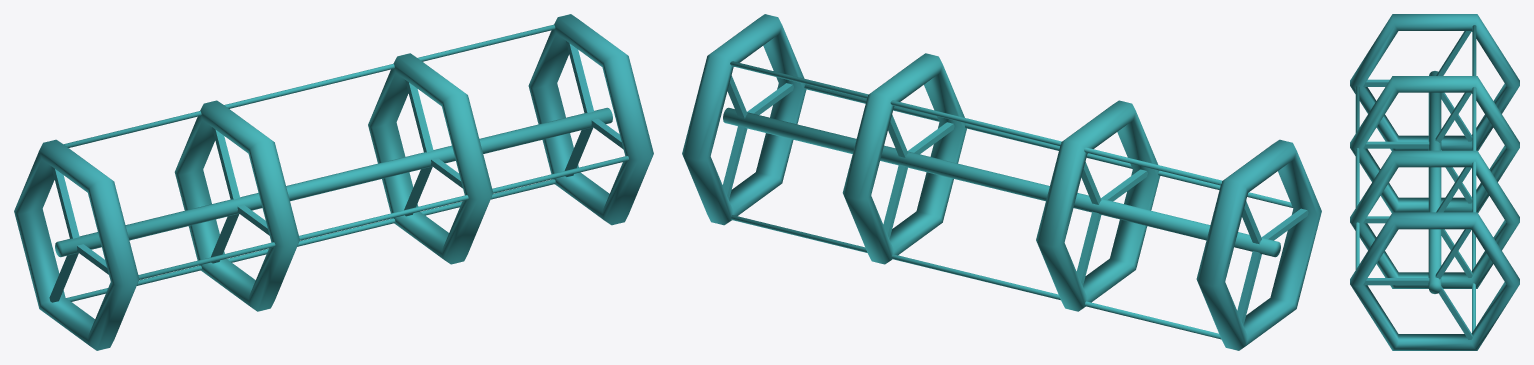
File: 1_level_knife.fbx
The picture shows the model from 3 angles, left to right: view 1: azimuth 30°, elevation 25°; view 2: azimuth 150°, elevation 25°; view 3: azimuth 270°, elevation 25°; orthographic projection. The views are drawn at different scales.
Visible parts, largest first — view 1: Harvest cylinder_1; view 2: Harvest cylinder_1; view 3: Harvest cylinder_1.
Part boxes in pixels (x1=…): Harvest cylinder_1: x1=14, y1=14, x2=653, y2=350; Harvest cylinder_1: x1=682, y1=14, x2=1321, y2=350; Harvest cylinder_1: x1=1350, y1=14, x2=1519, y2=350.
Bounding box in the file's own units: 2.7 × 0.791 × 0.9134.
